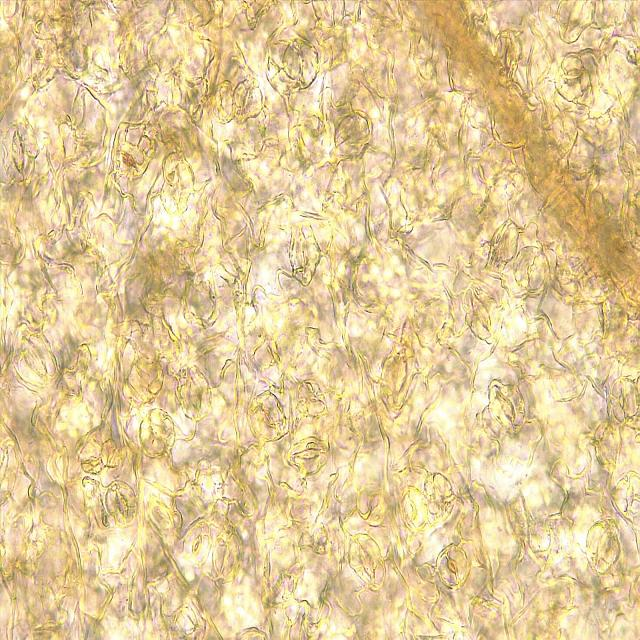Stomata: (485, 378, 531, 436), (10, 331, 56, 388), (461, 280, 503, 342), (174, 363, 216, 423), (282, 35, 322, 98), (1, 119, 40, 183), (583, 518, 623, 578), (246, 389, 290, 442), (140, 406, 177, 460), (348, 532, 385, 586), (103, 479, 141, 531), (512, 244, 552, 292), (284, 435, 330, 476), (434, 542, 472, 588), (354, 480, 390, 525), (606, 376, 640, 423), (611, 466, 640, 520), (181, 520, 212, 566)
